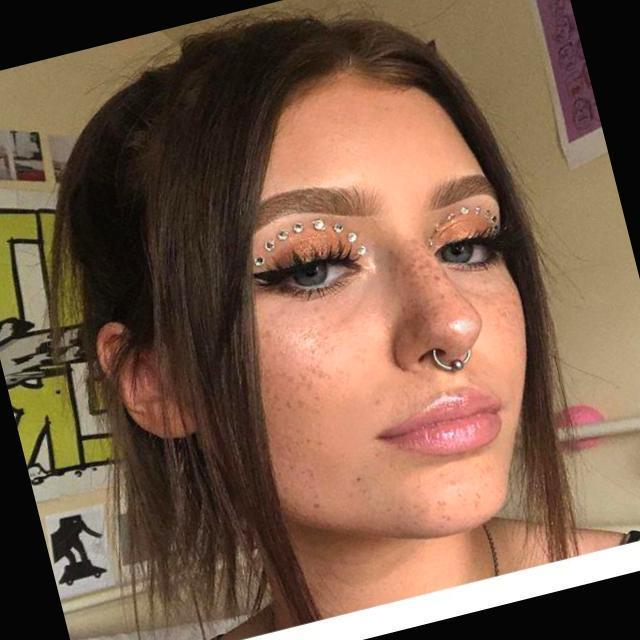freckle: (245, 289, 412, 518), (371, 203, 534, 385)
